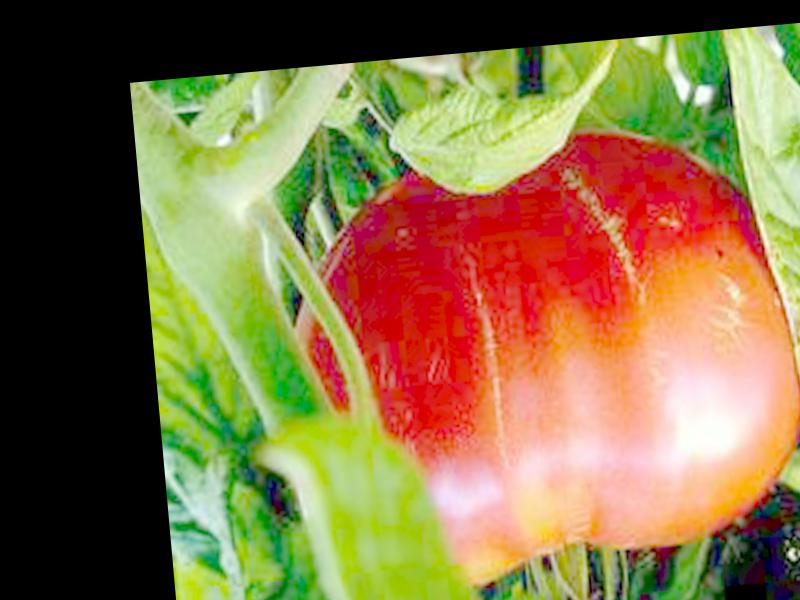Tomato: (282, 115, 800, 600)
